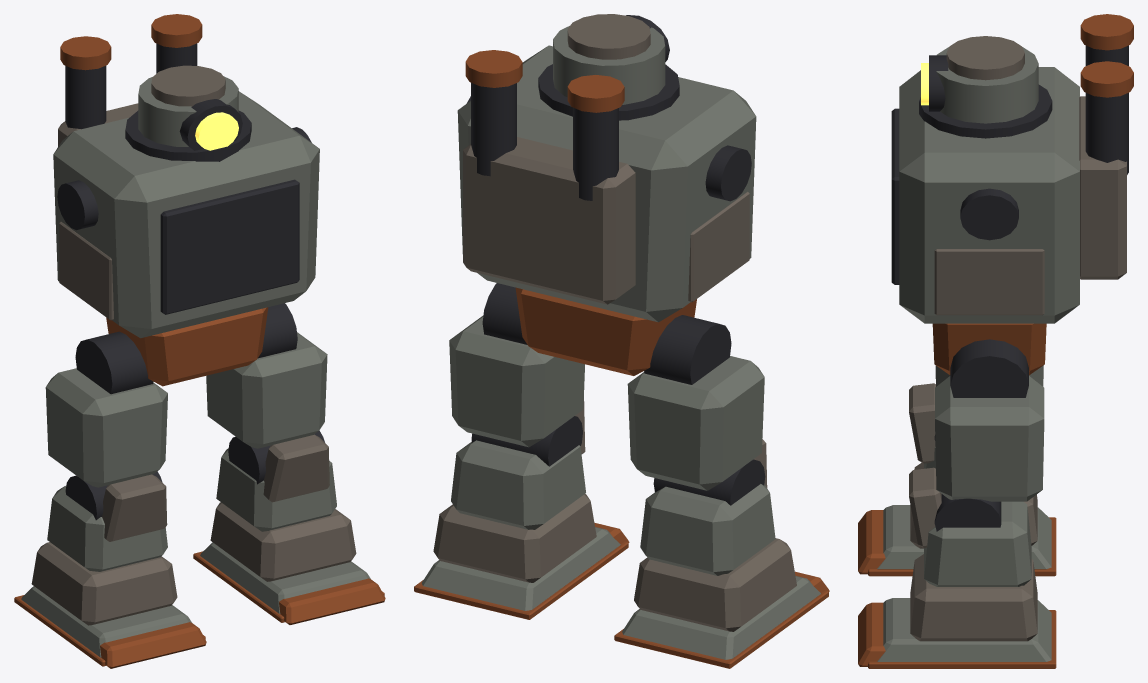
The model's file is ch_brute.glb.
3 views of the same model, side by side, from view 1: azimuth 30°, elevation 25°; view 2: azimuth 150°, elevation 25°; view 3: azimuth 270°, elevation 25° (orthographic). The views are drawn at different scales.
Visible parts, largest first — view 1: ch_brute, limb_leg_l, limb_leg_r; view 2: ch_brute, limb_leg_l, limb_leg_r; view 3: ch_brute, limb_leg_r, limb_leg_l.
Boxes of the visible parts, box(x1,y1,x2,y2) form: ch_brute: box(53, 14, 319, 386); limb_leg_l: box(14, 331, 206, 668); limb_leg_r: box(193, 303, 385, 624); ch_brute: box(457, 14, 756, 375); limb_leg_l: box(614, 315, 829, 668); limb_leg_r: box(414, 283, 629, 619); ch_brute: box(891, 14, 1133, 375); limb_leg_r: box(858, 339, 1056, 668); limb_leg_l: box(858, 365, 1056, 576).
Size of the model in its own units: 0.4314 by 0.7499 by 0.3428.
